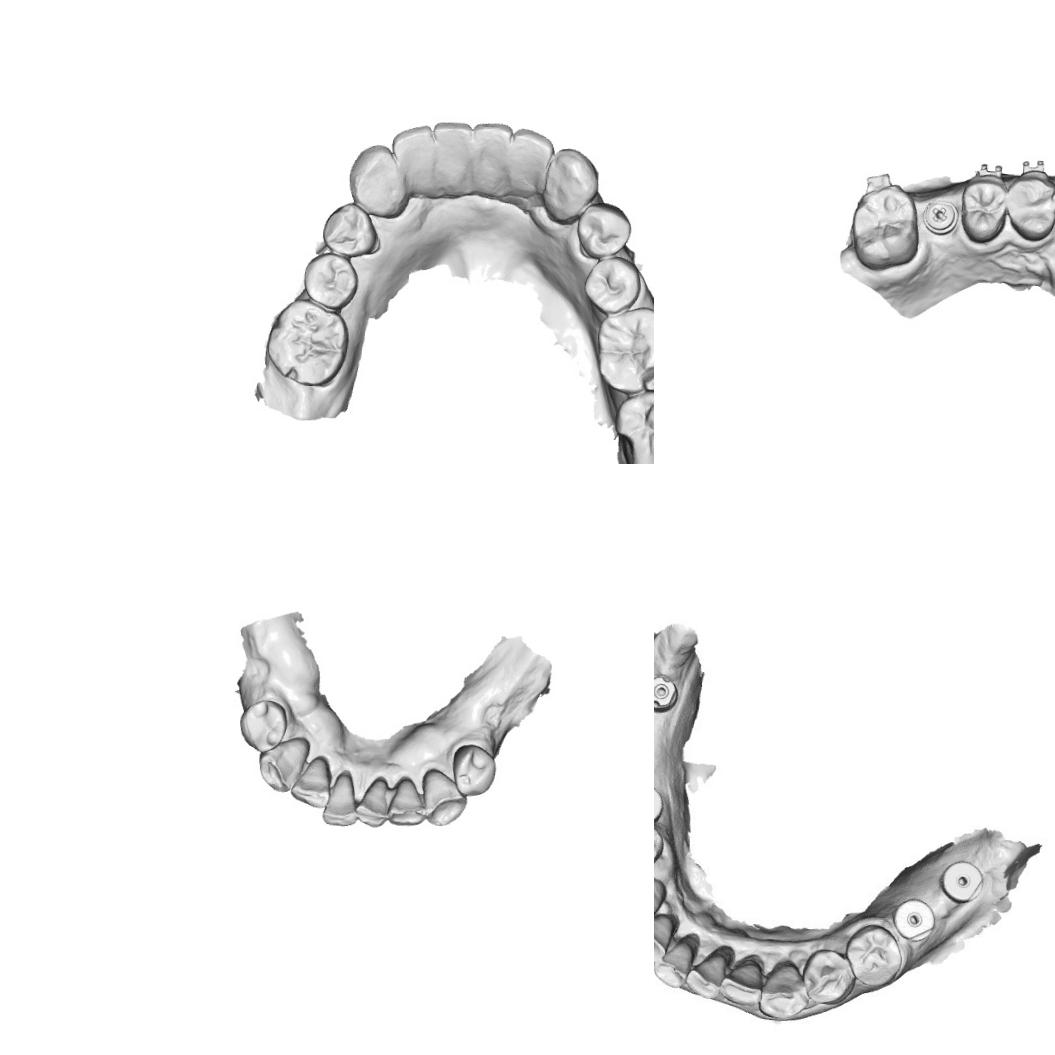canine: (345, 140, 408, 222), (541, 145, 601, 224), (762, 958, 819, 1024), (256, 734, 311, 795), (418, 767, 469, 828)
implant: (942, 857, 981, 905), (898, 896, 937, 942), (654, 671, 680, 717), (654, 781, 662, 819)
implant_plus: (920, 196, 960, 238)
incisor: (467, 118, 516, 182), (506, 126, 556, 184), (428, 121, 476, 180), (388, 121, 436, 180), (722, 955, 770, 1007), (288, 754, 332, 809), (320, 768, 358, 828), (386, 776, 426, 829), (654, 935, 696, 984), (353, 775, 390, 828), (686, 948, 726, 996), (654, 916, 675, 971)
molar: (262, 297, 350, 390), (846, 180, 922, 274), (591, 302, 654, 395), (610, 387, 654, 464)
premolar: (844, 921, 906, 988), (580, 253, 644, 315), (572, 198, 634, 262), (1004, 167, 1055, 242), (300, 250, 360, 312), (319, 198, 379, 260), (958, 170, 1008, 244), (237, 698, 288, 754), (450, 742, 497, 798), (804, 948, 852, 1001)
